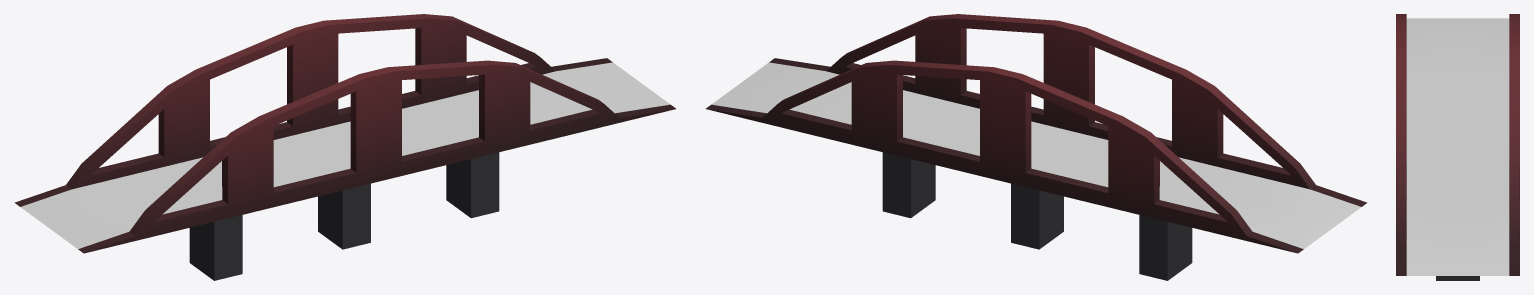
File: BRIDGE.fbx
3 renders of one model, left to right at view 1: azimuth 30°, elevation 25°; view 2: azimuth 150°, elevation 25°; view 3: azimuth 270°, elevation 25°, orthographic. The views are drawn at different scales.
Visible parts, largest first — view 1: Bridge.001; view 2: Bridge.001; view 3: Bridge.001.
Boxes of the visible parts, x1,y1,x2,y2 form: Bridge.001: (14,14,675,280); Bridge.001: (706,14,1367,280); Bridge.001: (1396,14,1519,280).
Size of the model in its own units: 1386 by 419 by 282.
